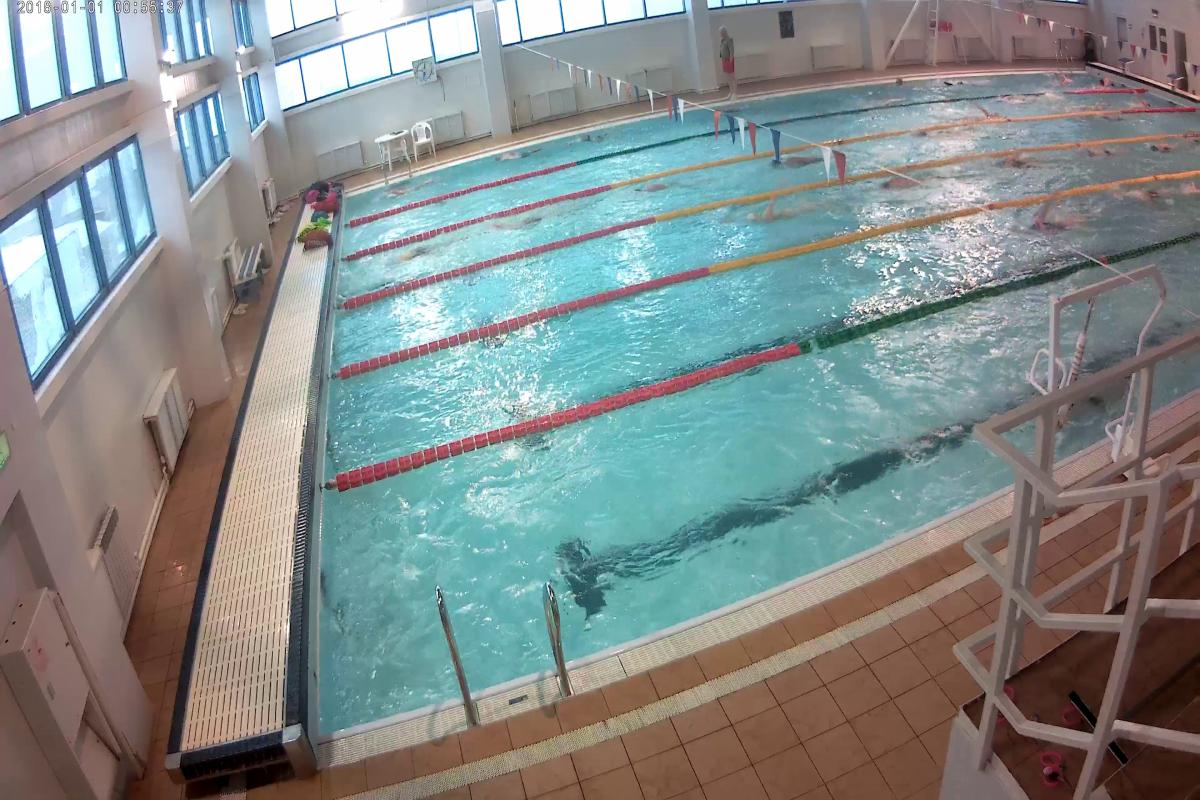swimmer: (729, 199, 844, 221), (1021, 201, 1084, 232), (997, 147, 1053, 176), (869, 174, 958, 189), (488, 210, 555, 229), (1081, 146, 1125, 171), (1144, 190, 1184, 215), (386, 246, 438, 264), (770, 151, 828, 167), (627, 180, 672, 196), (1156, 140, 1174, 156)
